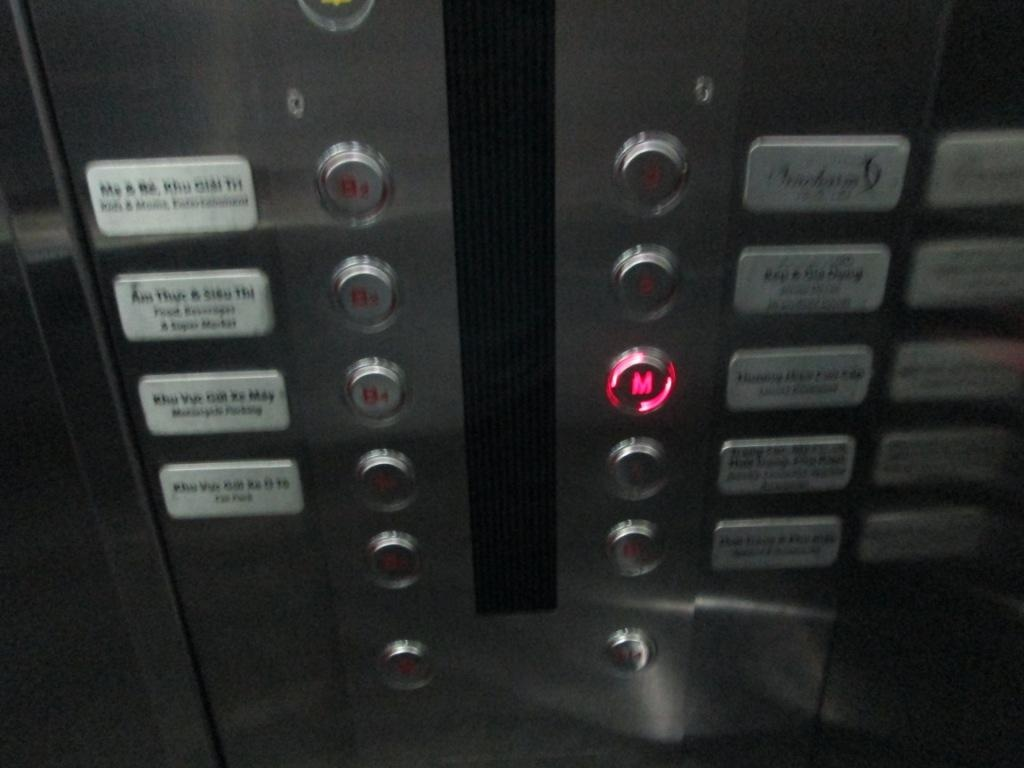B2: (310, 139, 394, 227)
B3: (324, 254, 403, 331)
B4: (338, 354, 407, 426)
M: (604, 347, 676, 416)
blur: (608, 132, 693, 216), (606, 244, 681, 320), (351, 448, 418, 513), (603, 435, 669, 499), (360, 530, 424, 590), (602, 519, 667, 577), (376, 640, 434, 690)
close: (600, 626, 659, 675)
